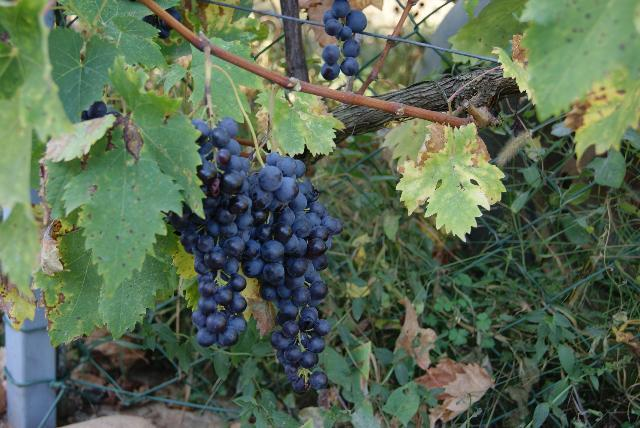grapes: (242, 152, 344, 391), (169, 118, 252, 348)
